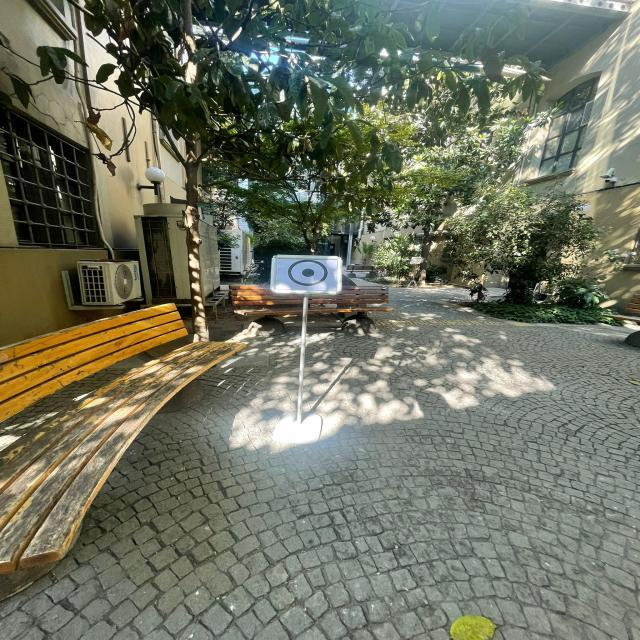Target: (261, 240, 354, 306)
inner: (299, 264, 320, 282)
